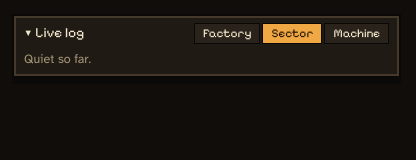
Test: The live log › says it is quiet when there is nothing to show, and folds away
expect the list item "Quiet so far." is shown: met, box [24,50,91,66]
Click the button "▾ Live log" at (54,33), box [24,23,84,43]
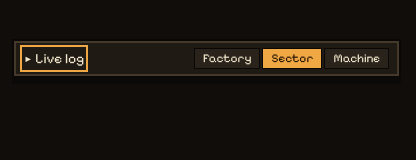
expect the list item "Quiet so far." is gone: met
